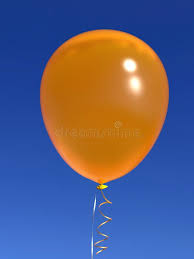Balloon: (39, 29, 170, 183)
